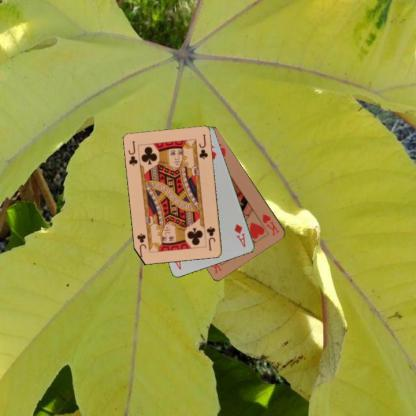Ad: (232, 221, 246, 249)
Jc: (204, 224, 217, 252), (126, 139, 139, 167)
Kh: (259, 211, 281, 237)
